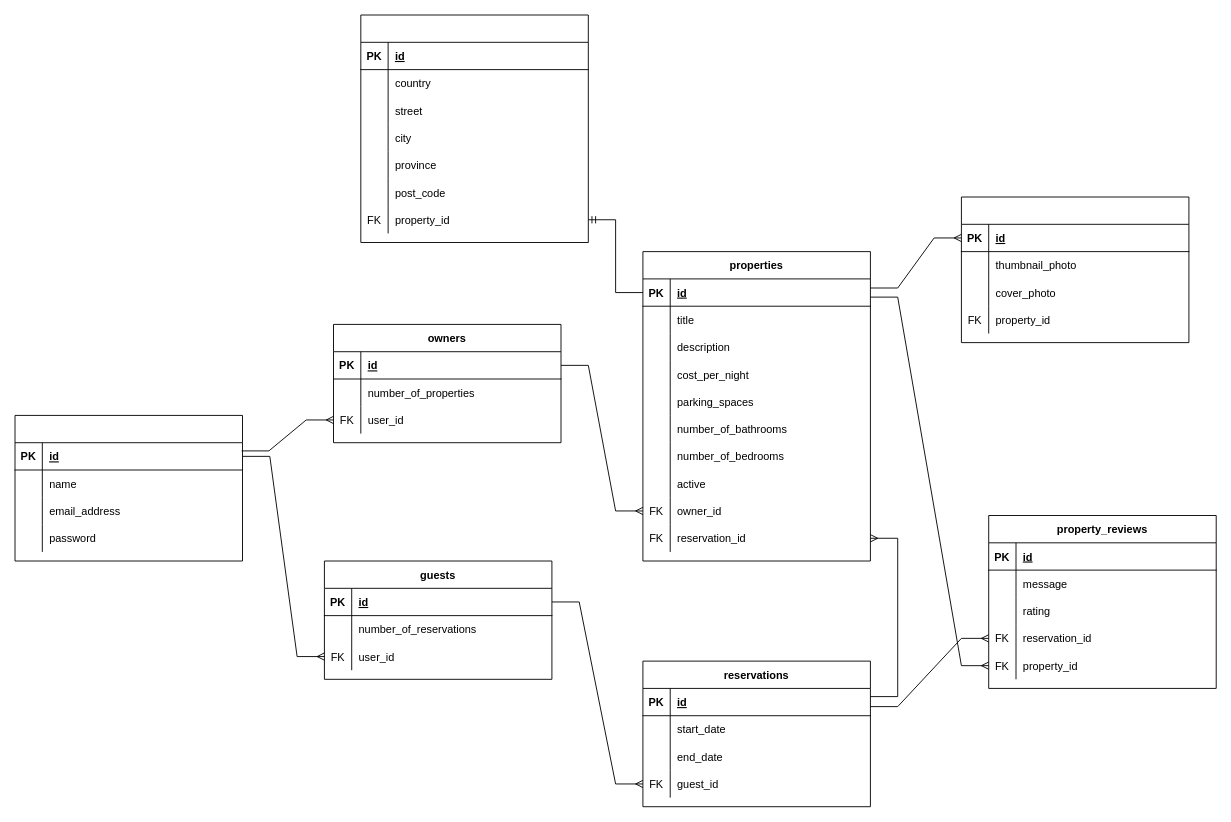
This 1231x822 diagram has some shape labels left out. Each missing label, with the box of its shape:
property_address: (360, 14, 588, 243)
property_images: (961, 196, 1189, 343)
users: (14, 415, 243, 561)
